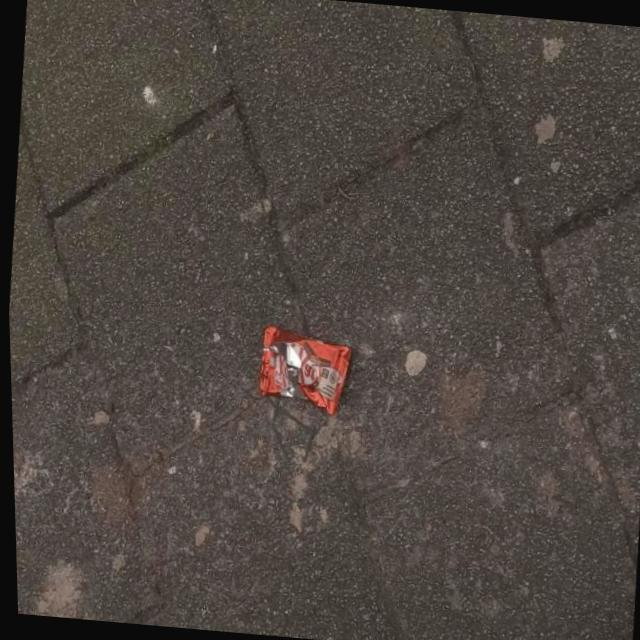Plastic: (252, 323, 353, 418)
